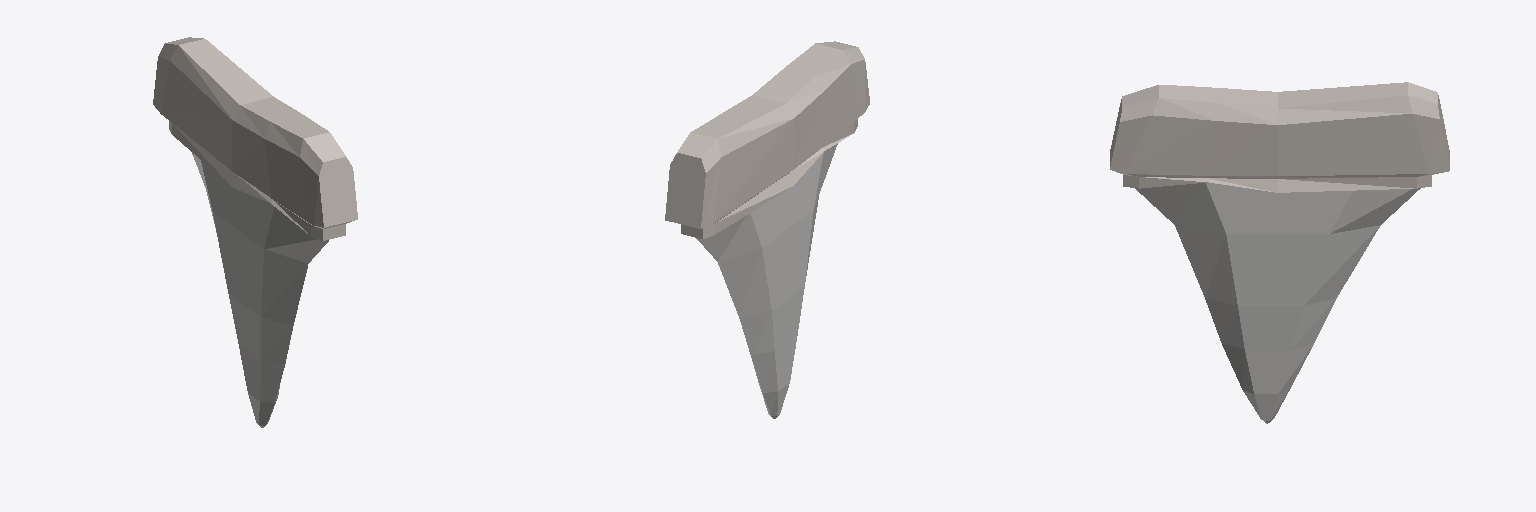
3 views of the same model, side by side, from view 1: azimuth 30°, elevation 25°; view 2: azimuth 150°, elevation 25°; view 3: azimuth 270°, elevation 25° (orthographic).
Parts seen in each view (by area): view 1: Geo_SharkTooth; view 2: Geo_SharkTooth; view 3: Geo_SharkTooth.
Boxes of the visible parts, x1,y1,x2,y2 form: Geo_SharkTooth: [153, 37, 357, 427]; Geo_SharkTooth: [665, 41, 869, 418]; Geo_SharkTooth: [1110, 82, 1449, 423].
Size of the model in its own units: 5.4 by 34.3 by 31.65.
Materials: 1 (1 with a texture image).